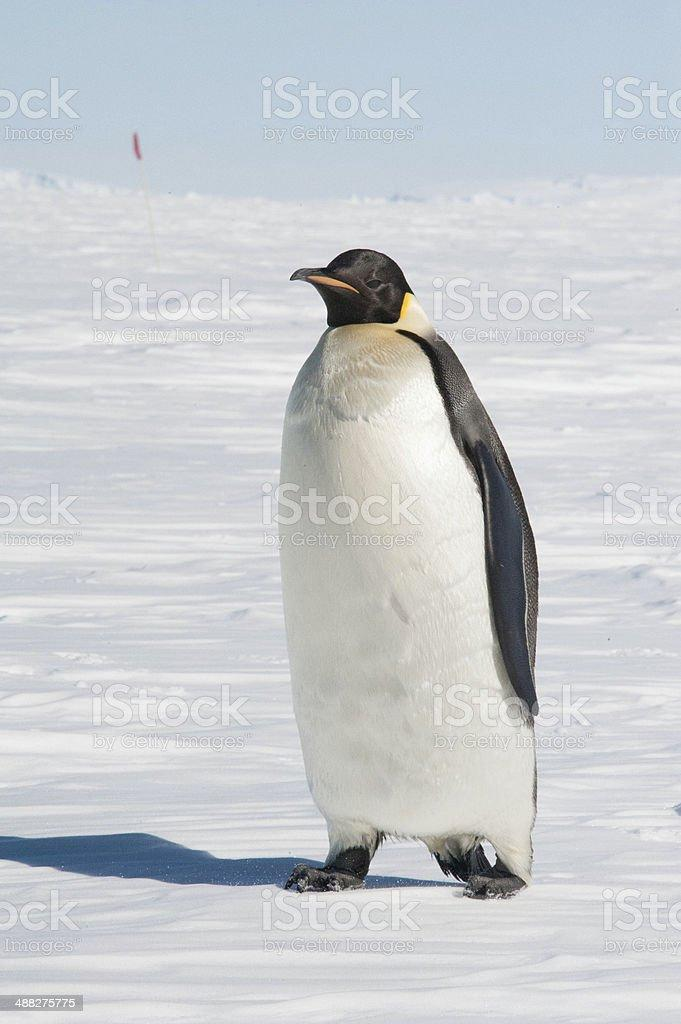emporer: (225, 238, 613, 930)
